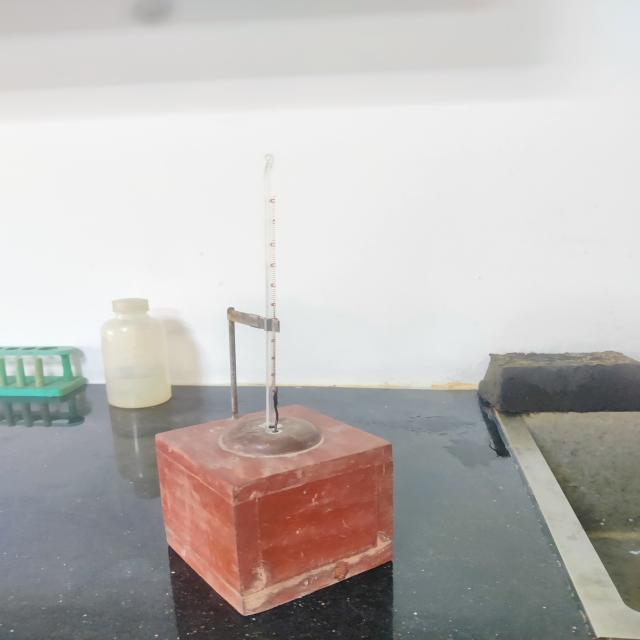Calorimeter: (134, 71, 431, 635)
